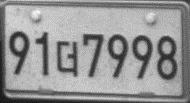1: (33, 30, 50, 76)
7: (82, 32, 104, 77)
8: (156, 35, 178, 80)
9: (130, 33, 154, 82), (7, 29, 30, 76), (106, 32, 128, 78)
더: (55, 39, 79, 78)
